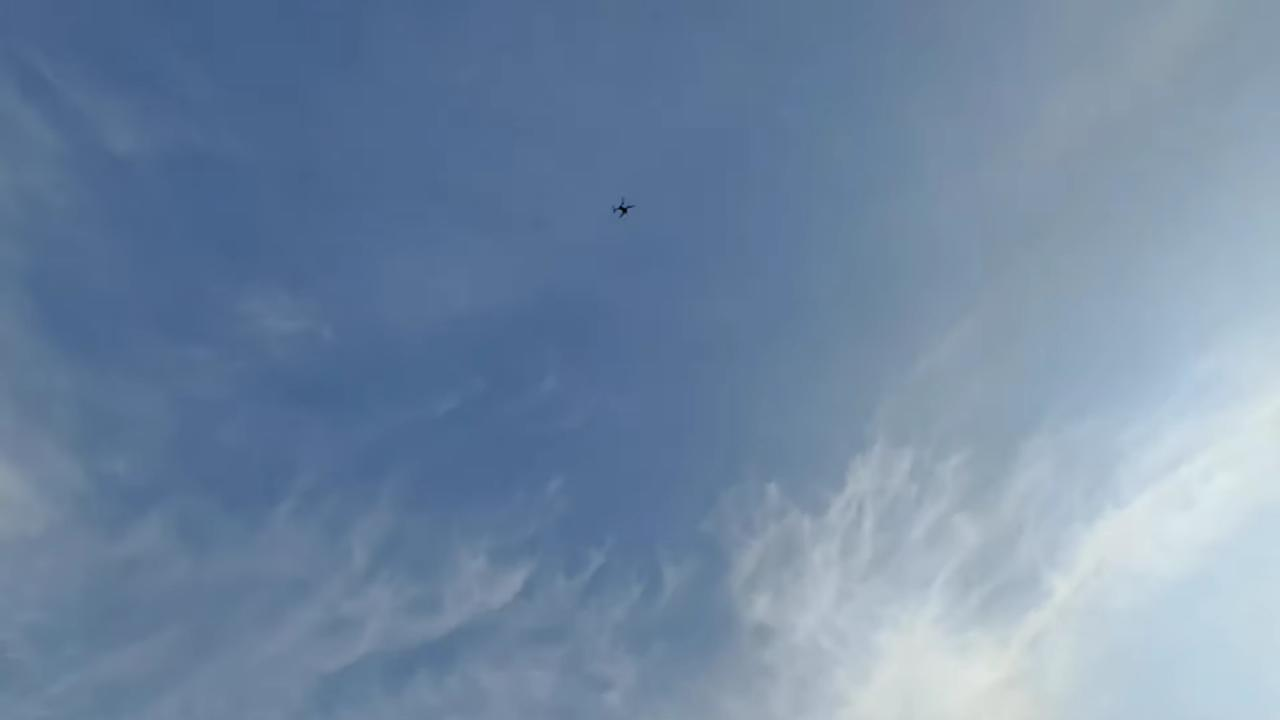Drone: (606, 190, 644, 225)
